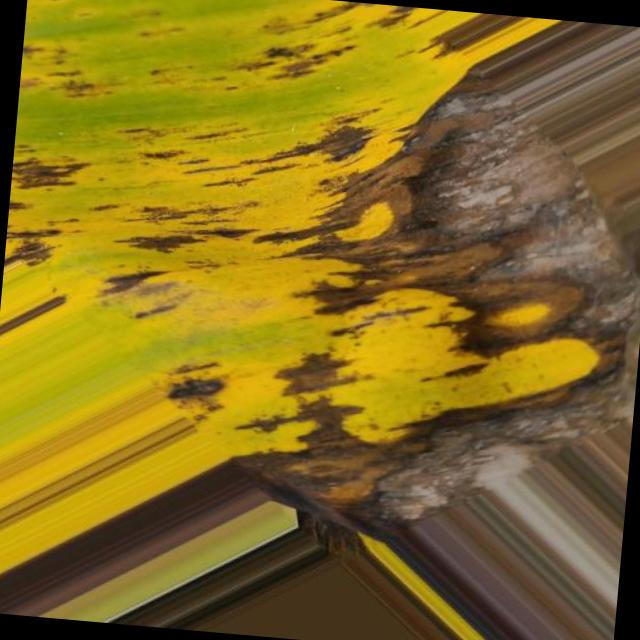Banana_Black_Sigatoka: (283, 32, 640, 568), (0, 0, 282, 359)
